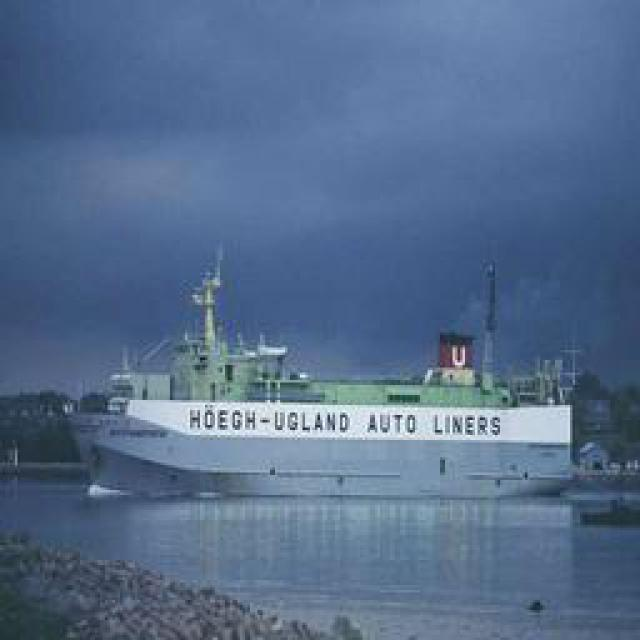Ship: (65, 220, 600, 490)
